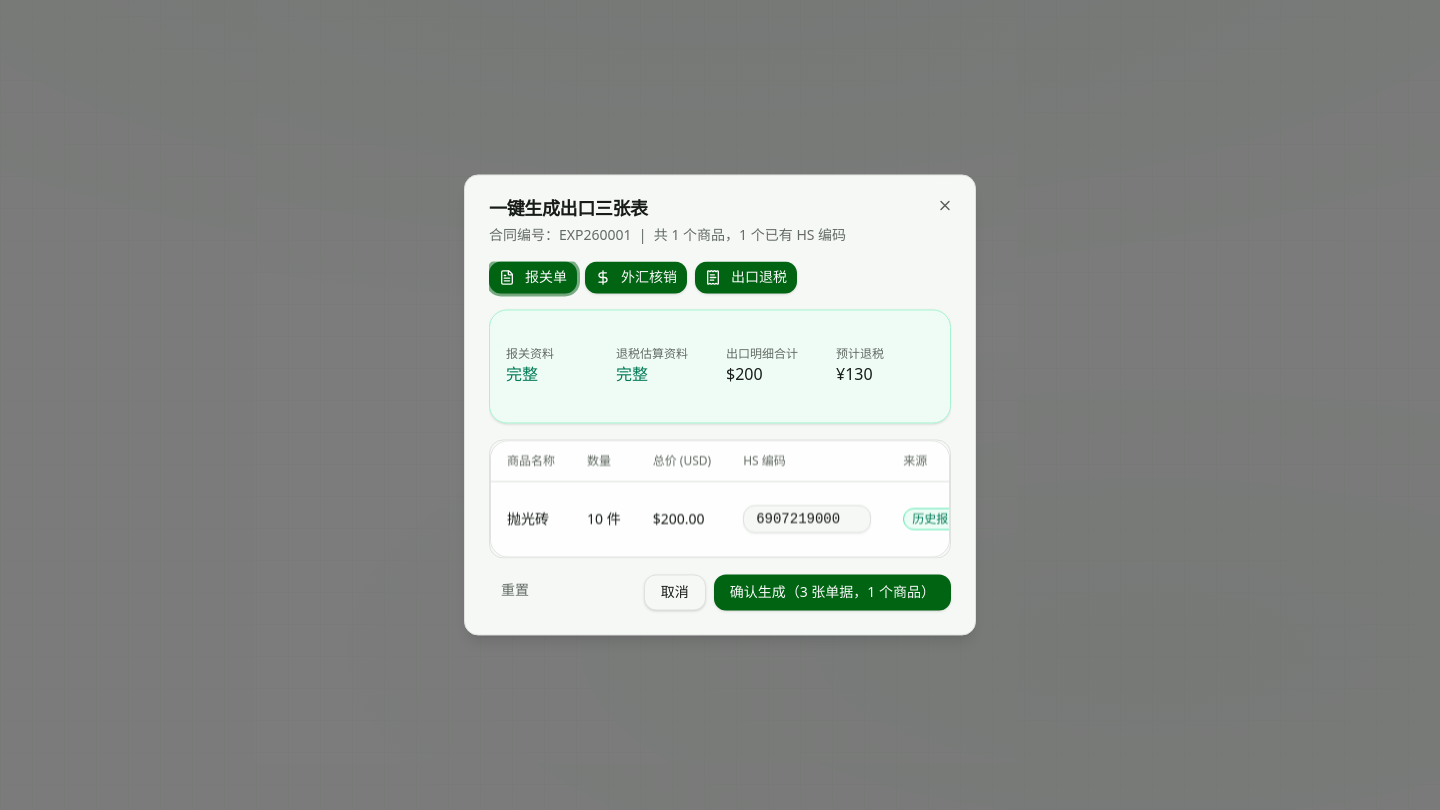
GenerateThreeFormsDialog › 非文字错误消息 保留可见提示且不自动重新生成
Click the button "确认生成（3 张单据，1 个商品）".
click(832, 592)  # box [714, 574, 951, 610]
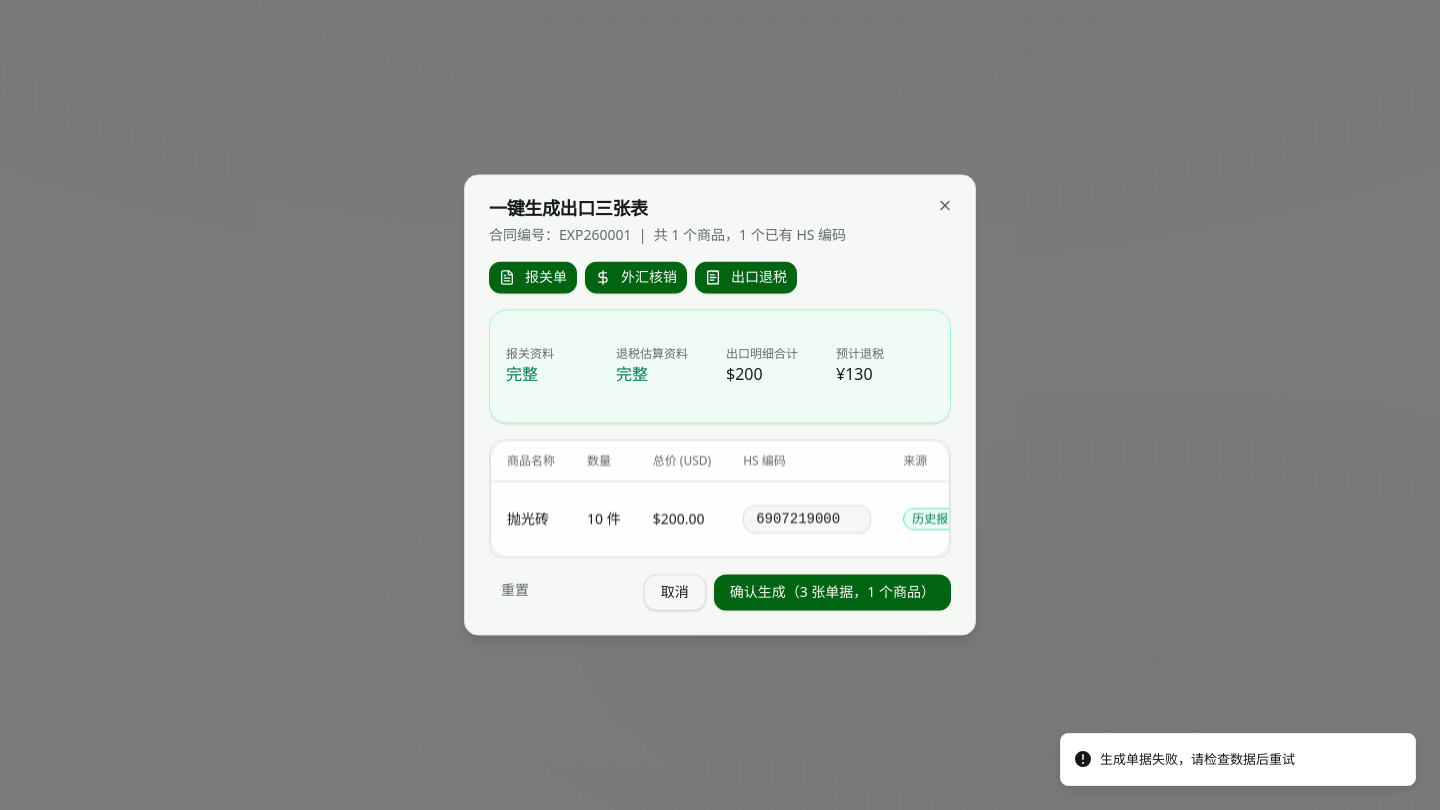
Expected: the dialog is shown, [464, 174, 976, 636]
Now the text "生成单据失败，请检查数据后重试" is shown, box [1100, 750, 1295, 769]
